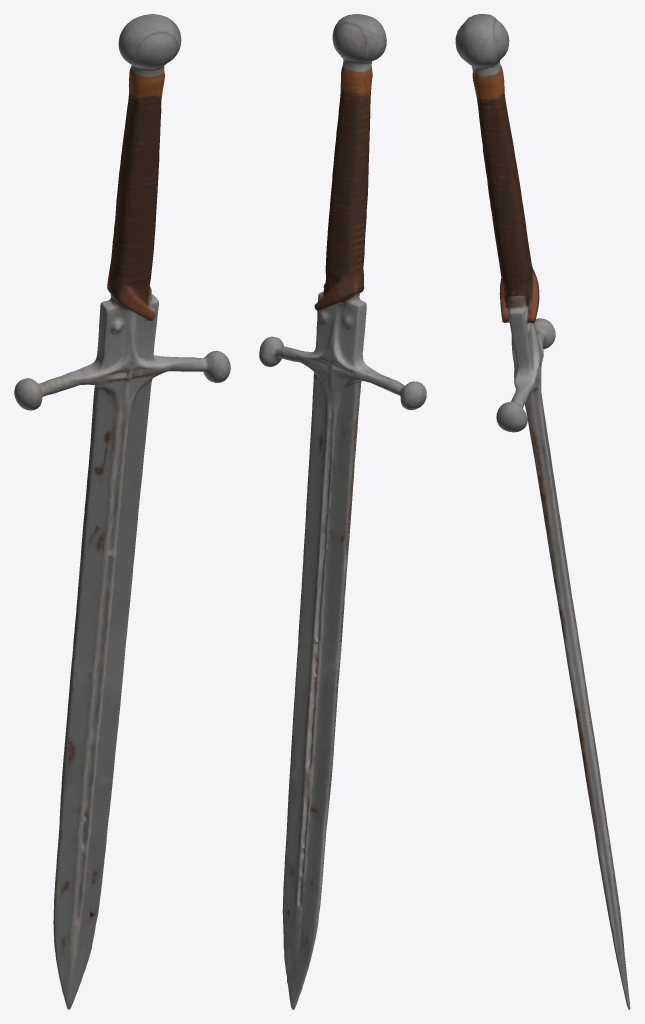
Rendered from long.glb.
The picture shows the model from 3 angles, left to right: view 1: azimuth 30°, elevation 25°; view 2: azimuth 150°, elevation 25°; view 3: azimuth 270°, elevation 25°; orthographic projection. The views are drawn at different scales.
Bounding box in the file's own units: 0.1807 × 0.9216 × 0.1472.
Materials: 1 (1 with a texture image).
